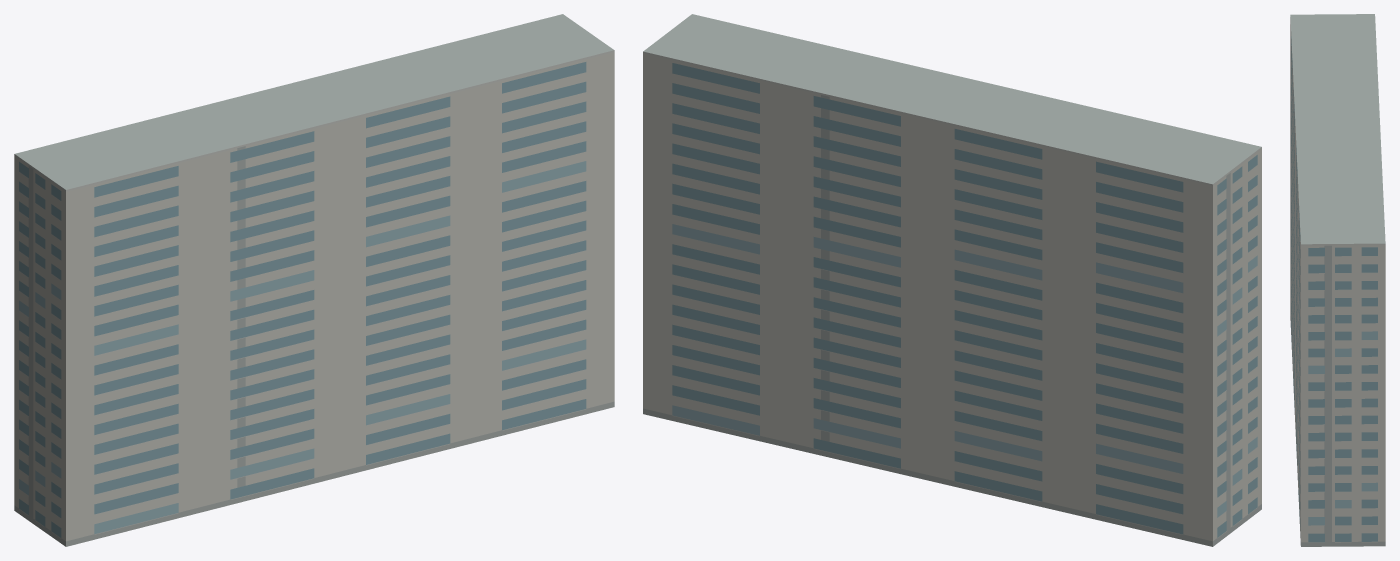
File: residential-38319a7f-0776-46c9-82fb-0086534d4f89.glb
The picture shows the model from 3 angles, left to right: view 1: azimuth 30°, elevation 25°; view 2: azimuth 150°, elevation 25°; view 3: azimuth 270°, elevation 25°; orthographic projection. The views are drawn at different scales.
Visible parts, largest first — view 1: residential-38319a7f-0776-46c9-82fb-0086534d4f89.tmp; view 2: residential-38319a7f-0776-46c9-82fb-0086534d4f89.tmp; view 3: residential-38319a7f-0776-46c9-82fb-0086534d4f89.tmp.
Part boxes in pixels (x1=…): residential-38319a7f-0776-46c9-82fb-0086534d4f89.tmp: x1=14, y1=14, x2=614, y2=546; residential-38319a7f-0776-46c9-82fb-0086534d4f89.tmp: x1=643, y1=14, x2=1261, y2=546; residential-38319a7f-0776-46c9-82fb-0086534d4f89.tmp: x1=1290, y1=14, x2=1385, y2=546.
Size of the model in its own units: 78.3 by 48 by 13.69.
